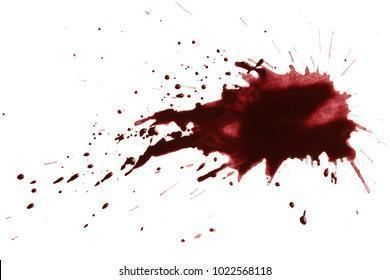Fire: (134, 59, 364, 182), (152, 65, 208, 106), (199, 49, 243, 95), (85, 110, 122, 144), (177, 226, 217, 250), (60, 151, 98, 172), (283, 198, 307, 216), (174, 37, 201, 52), (269, 177, 287, 192), (139, 126, 159, 138), (96, 173, 113, 186), (324, 168, 337, 184), (135, 223, 152, 232), (300, 211, 307, 224), (69, 174, 79, 182), (115, 134, 125, 142), (53, 178, 64, 184), (17, 174, 24, 182), (30, 188, 37, 194), (102, 203, 108, 210), (27, 202, 32, 208), (92, 214, 97, 220), (29, 180, 36, 184), (127, 128, 132, 132), (127, 134, 132, 138), (83, 224, 88, 228)
